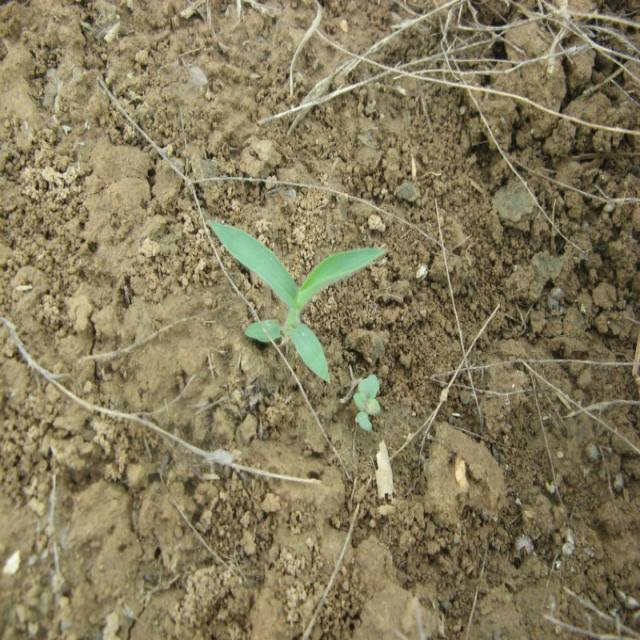bg: (207, 218, 387, 382)
